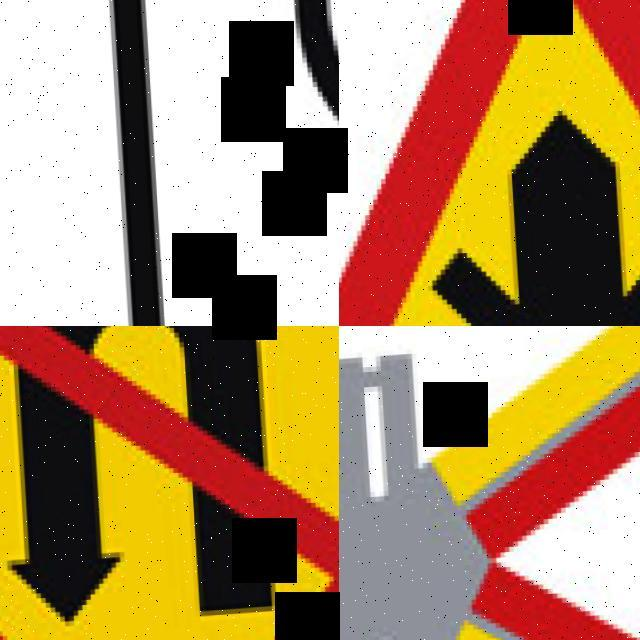166: (339, 0, 640, 326)
170: (0, 0, 339, 326)
62: (339, 326, 640, 640)
no u turn: (0, 326, 339, 640)
